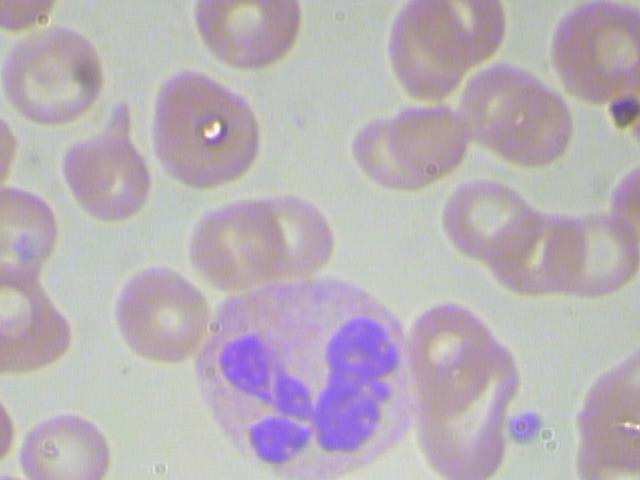Platelets: (503, 406, 553, 449)
RBC: (140, 64, 268, 195), (95, 267, 219, 367), (57, 100, 157, 222), (429, 174, 545, 270), (0, 22, 105, 126), (450, 57, 552, 158), (240, 194, 347, 284), (184, 1, 312, 71), (378, 3, 467, 103), (19, 411, 110, 480)
WBC: (180, 267, 431, 480)
